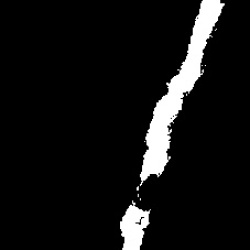crack: (138, 3, 224, 191), (119, 201, 149, 247)
